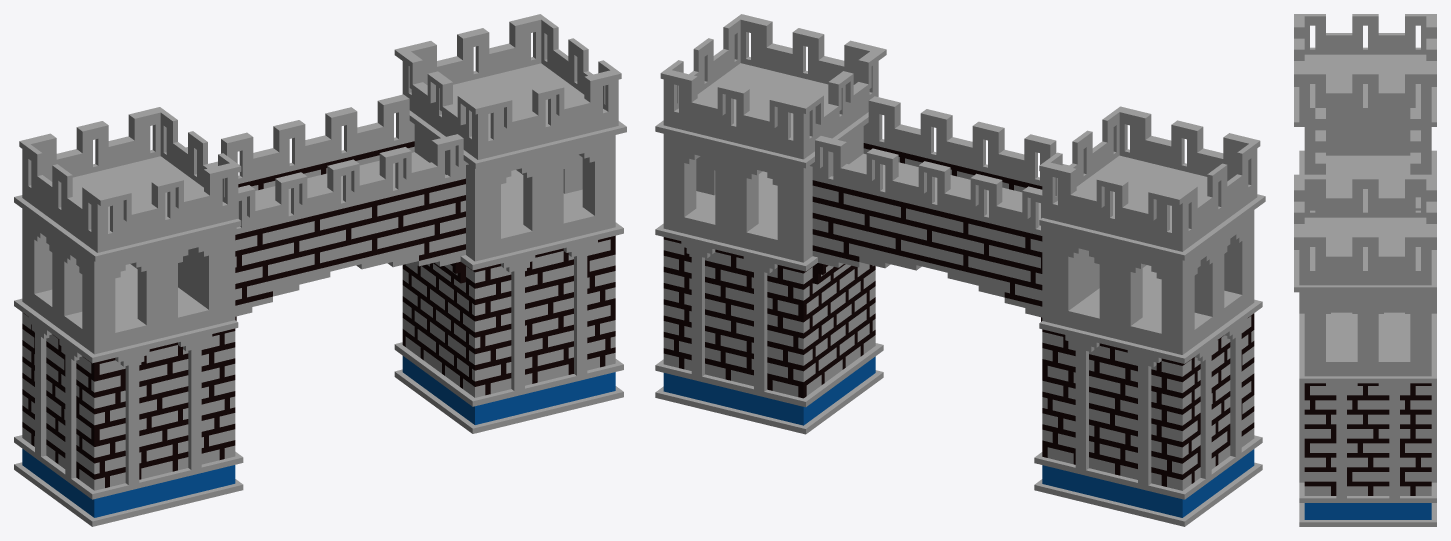
The model's file is WallDoor.obj.
3 views of the same model, side by side, from view 1: azimuth 30°, elevation 25°; view 2: azimuth 150°, elevation 25°; view 3: azimuth 270°, elevation 25° (orthographic). The views are drawn at different scales.
Size of the model in its own units: 102 by 60 by 27.
1 material, 1 textured.
